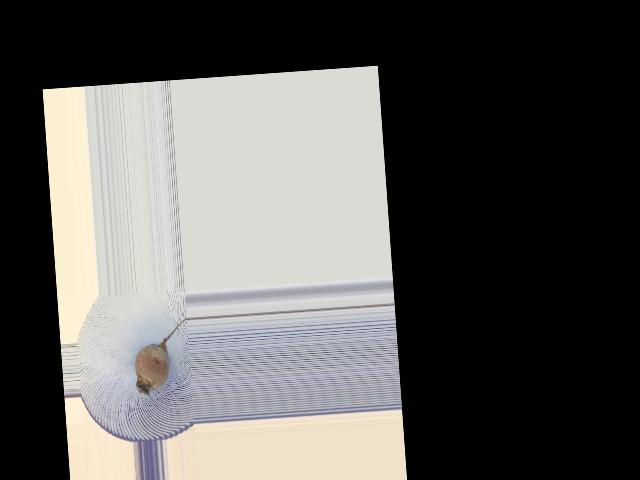beet: (132, 318, 192, 396)
